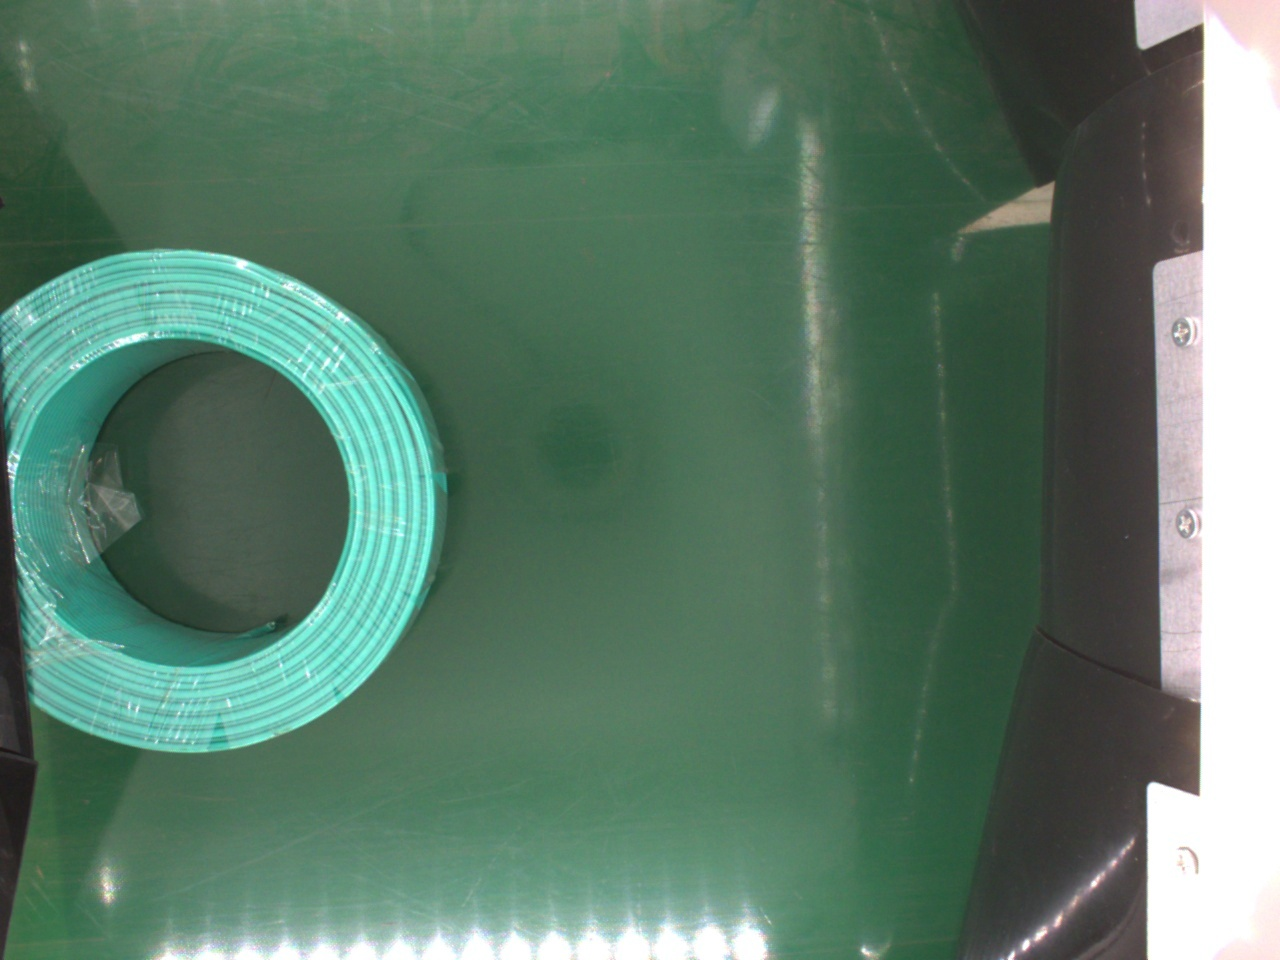green: (18, 248, 442, 760)
